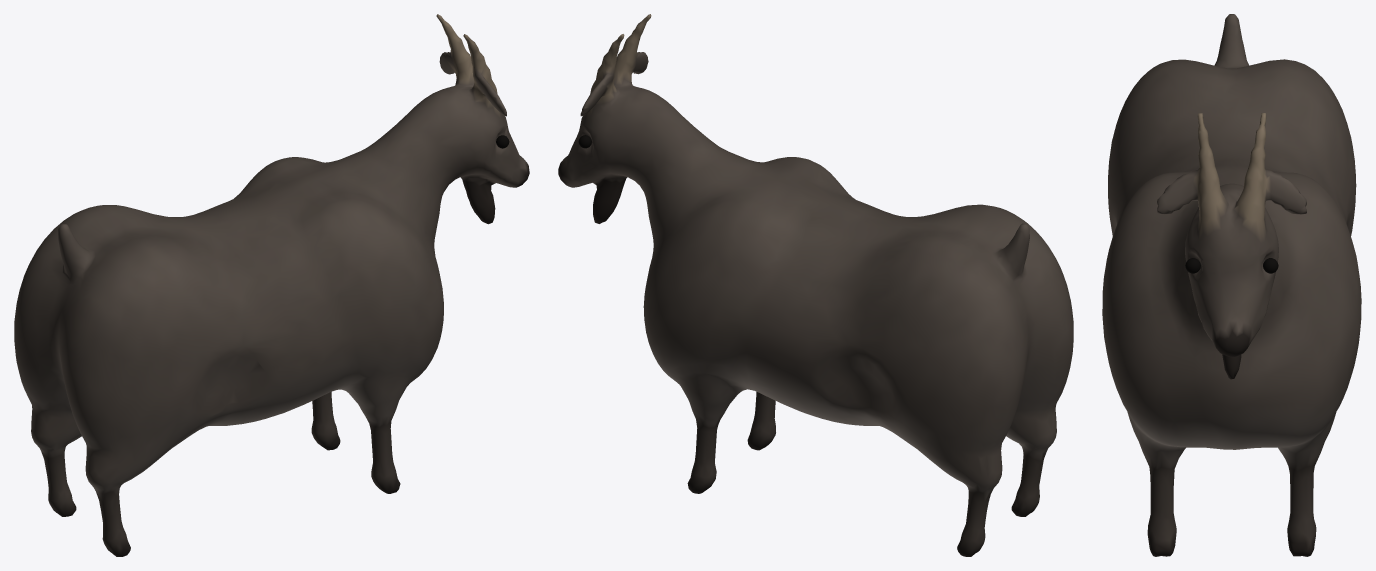
File: goat.glb
The picture shows the model from 3 angles, left to right: view 1: azimuth 30°, elevation 25°; view 2: azimuth 150°, elevation 25°; view 3: azimuth 270°, elevation 25°; orthographic projection. The views are drawn at different scales.
Visible parts, largest first — view 1: goat; view 2: goat; view 3: goat.
Part boxes in pixels (x1,y1,x2,y2): goat: (14, 14, 529, 556); goat: (558, 14, 1073, 556); goat: (1102, 14, 1361, 556).
Size of the model in its own units: 0.8994 by 0.7513 by 0.3563.
